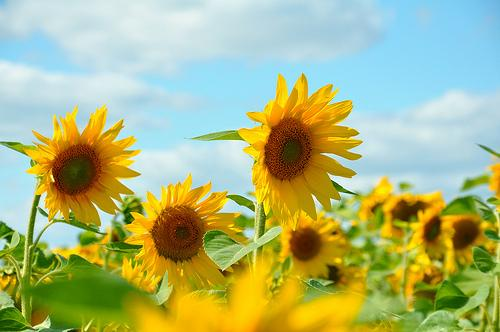sunflower: (242, 74, 360, 216), (28, 107, 142, 227), (128, 178, 245, 287), (279, 209, 348, 277), (396, 209, 451, 252), (446, 213, 485, 252)
